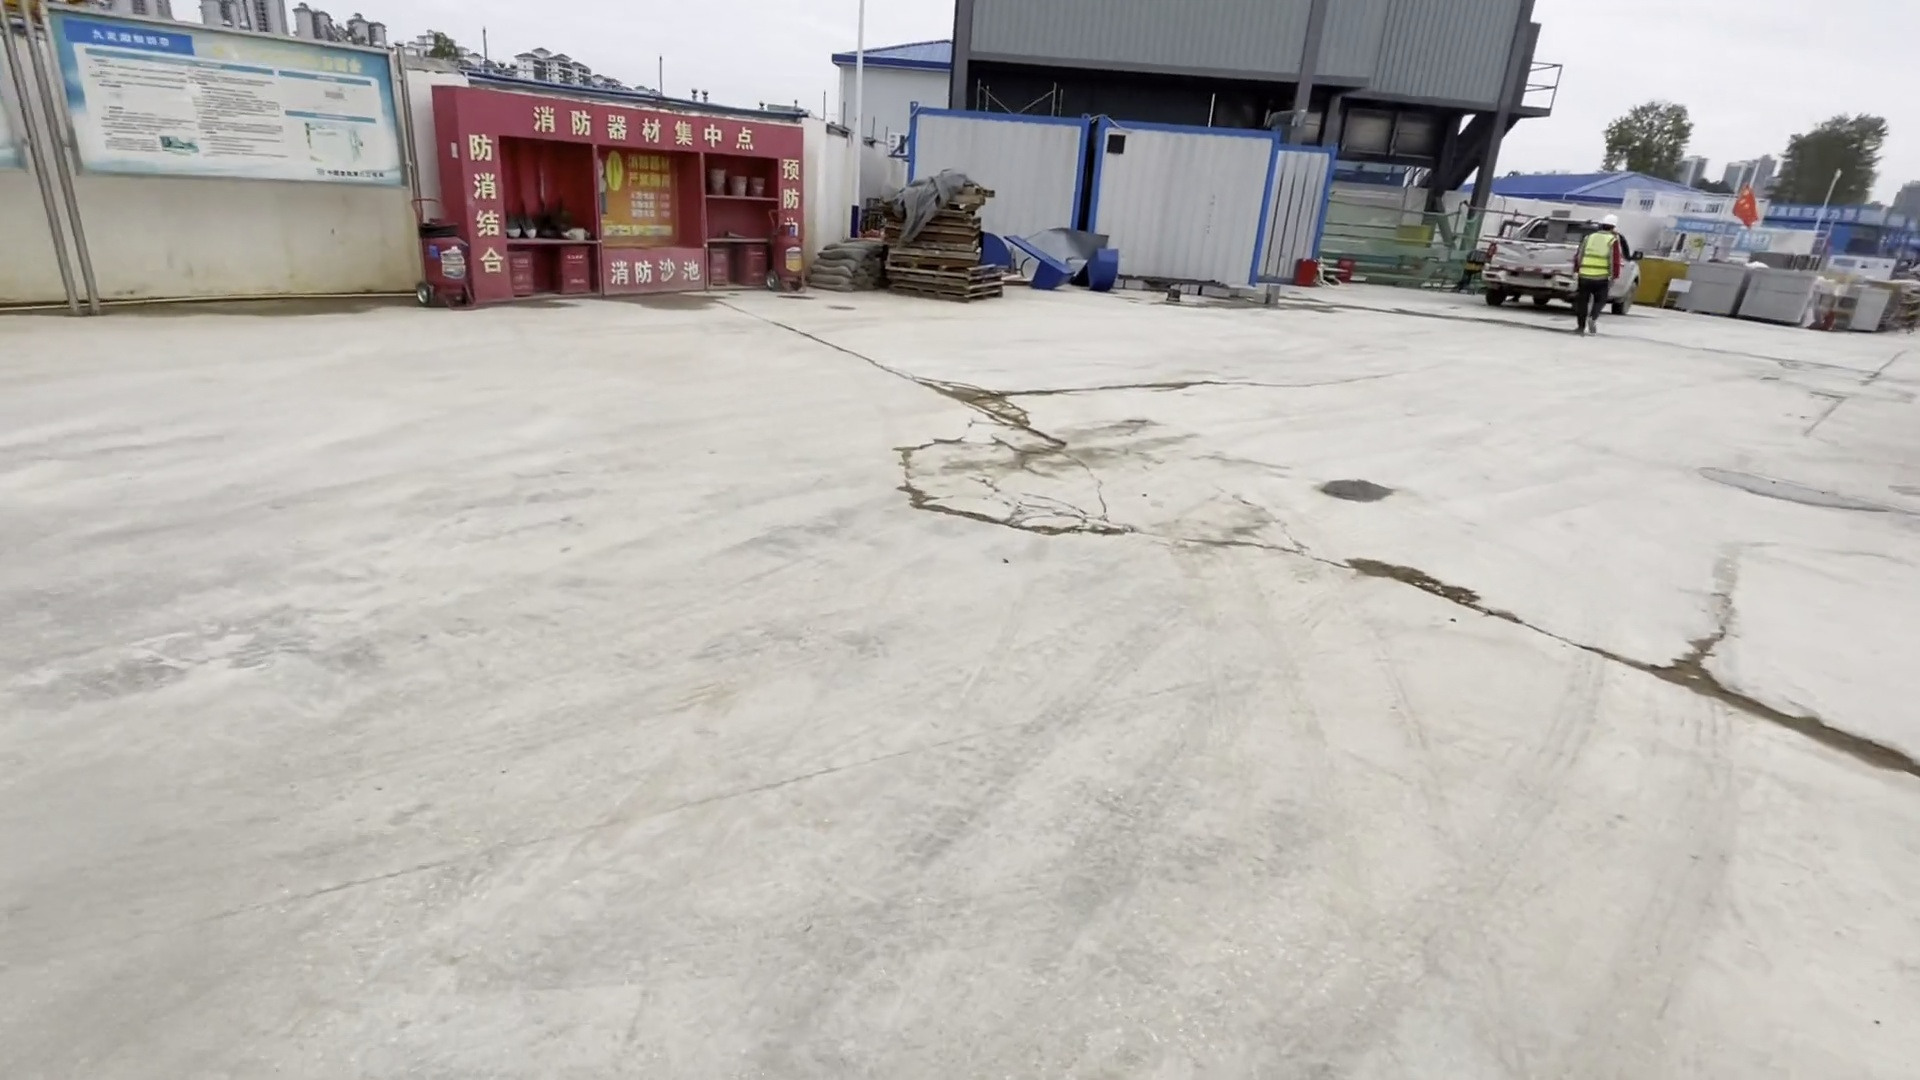helmet: (1599, 214, 1616, 228)
person: (1571, 212, 1625, 346)
vest: (1578, 231, 1615, 279)
